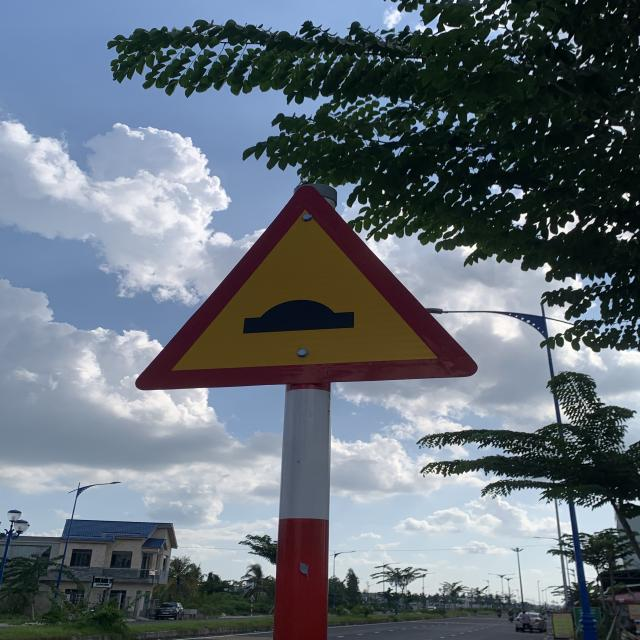Duong_Cong_Ben_Phai: (132, 180, 475, 390)
